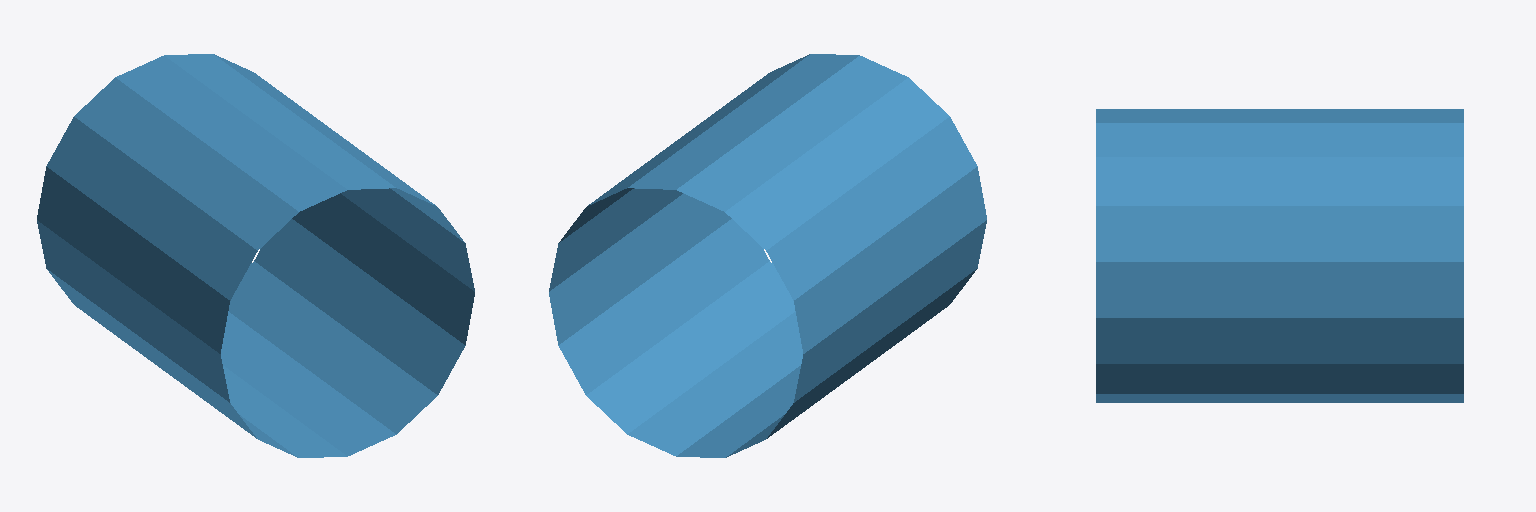
Rendered from pipe-straight.obj.
The picture shows the model from 3 angles: view 1: azimuth 30°, elevation 25°; view 2: azimuth 150°, elevation 25°; view 3: azimuth 270°, elevation 25°; orthographic projection.
Visible parts, largest first — view 1: Cylinder_Cylinder.001; view 2: Cylinder_Cylinder.001; view 3: Cylinder_Cylinder.001.
Part boxes in pixels (x1,y1,x2,y2): Cylinder_Cylinder.001: (37,54,474,457); Cylinder_Cylinder.001: (549,54,986,457); Cylinder_Cylinder.001: (1096,109,1463,402).
Bounding box in the file's own units: 0.8 × 0.8 × 1.